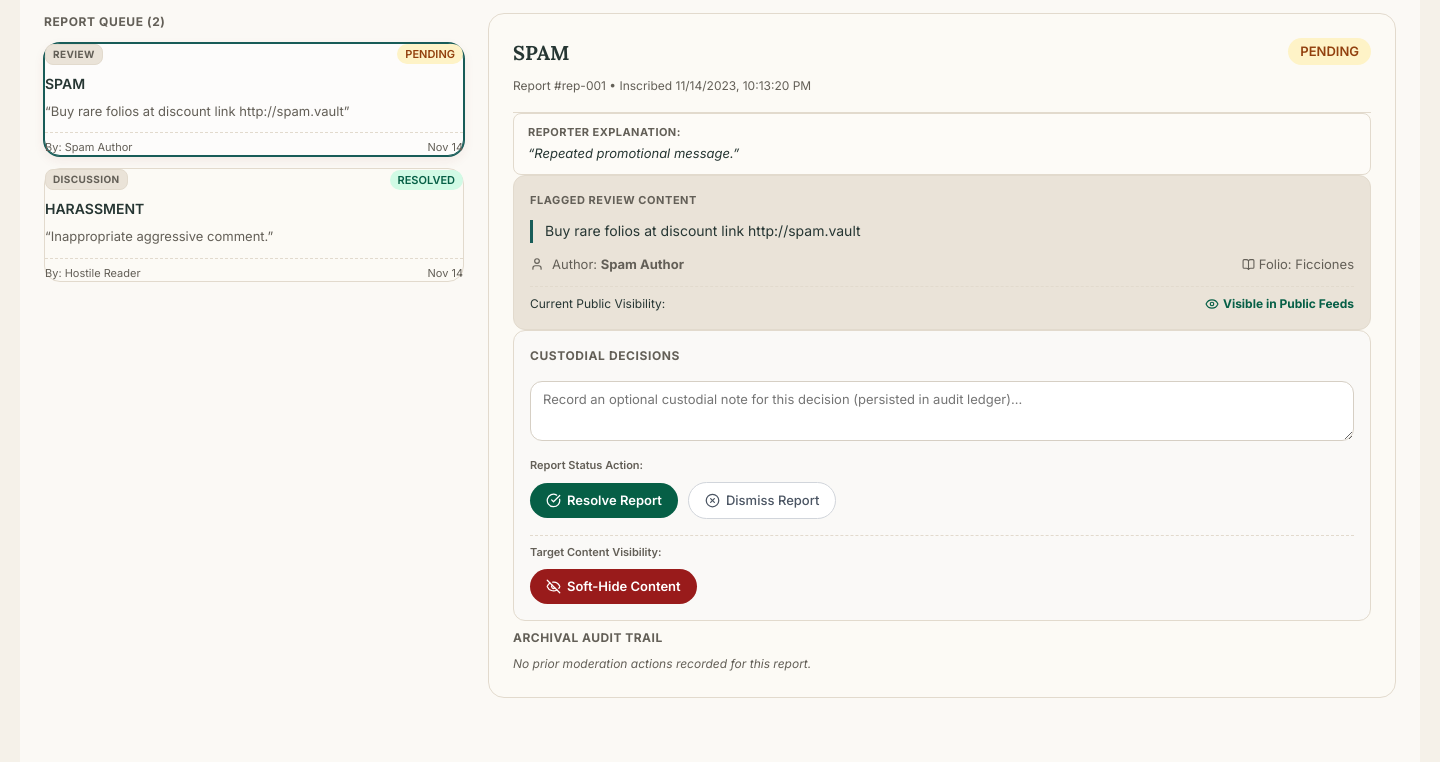
Test: ModerationConsolePage Component › opens confirmation modal and soft-hides content
The image size is (1440, 762).
Later steps or results of the test are not shown.
(page scrolled)
Step 1. Click the button with test id "hide-content-btn" → point(613, 586), box [530,569,697,604]
(page scrolled)
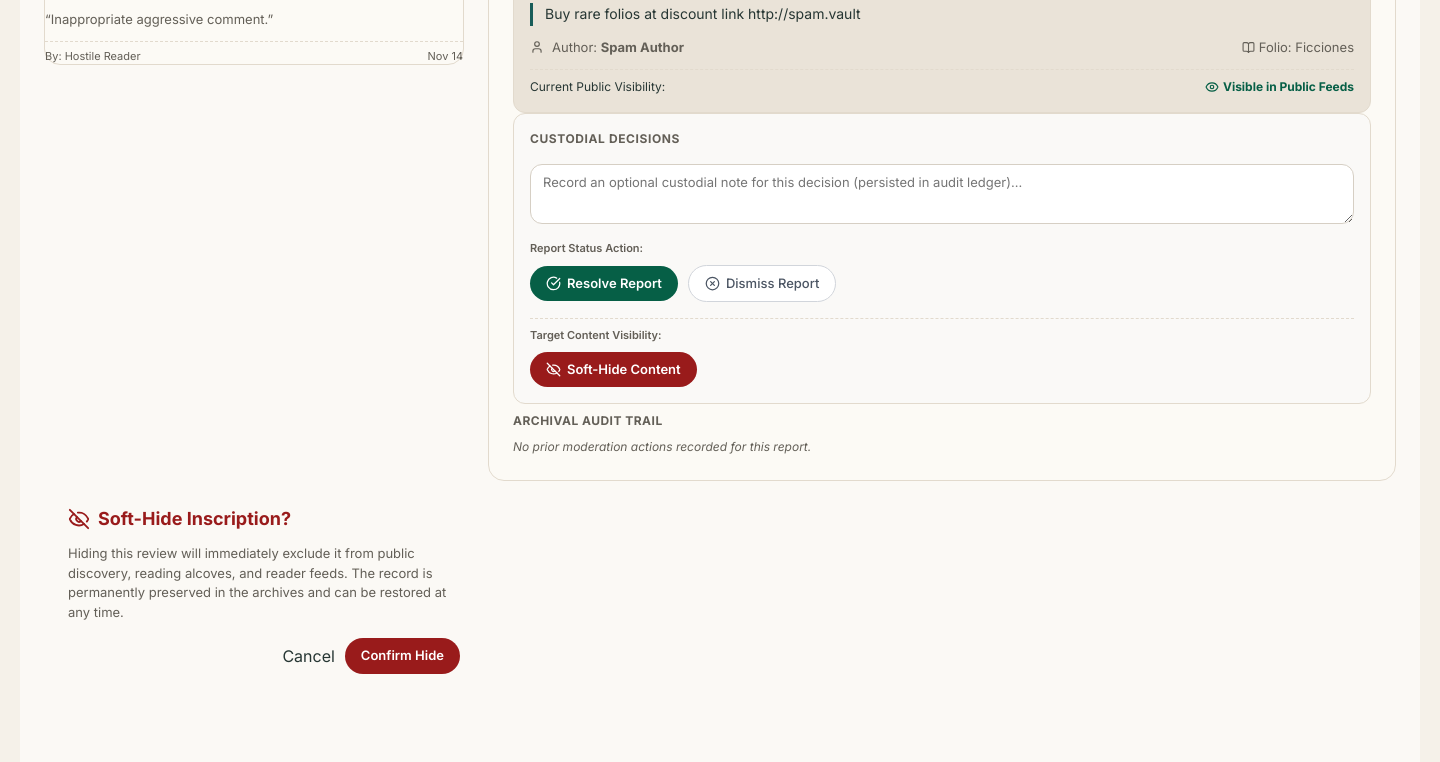
expect the element with test id "confirm-hide-modal" is shown: met, box [68,508,460,674]
